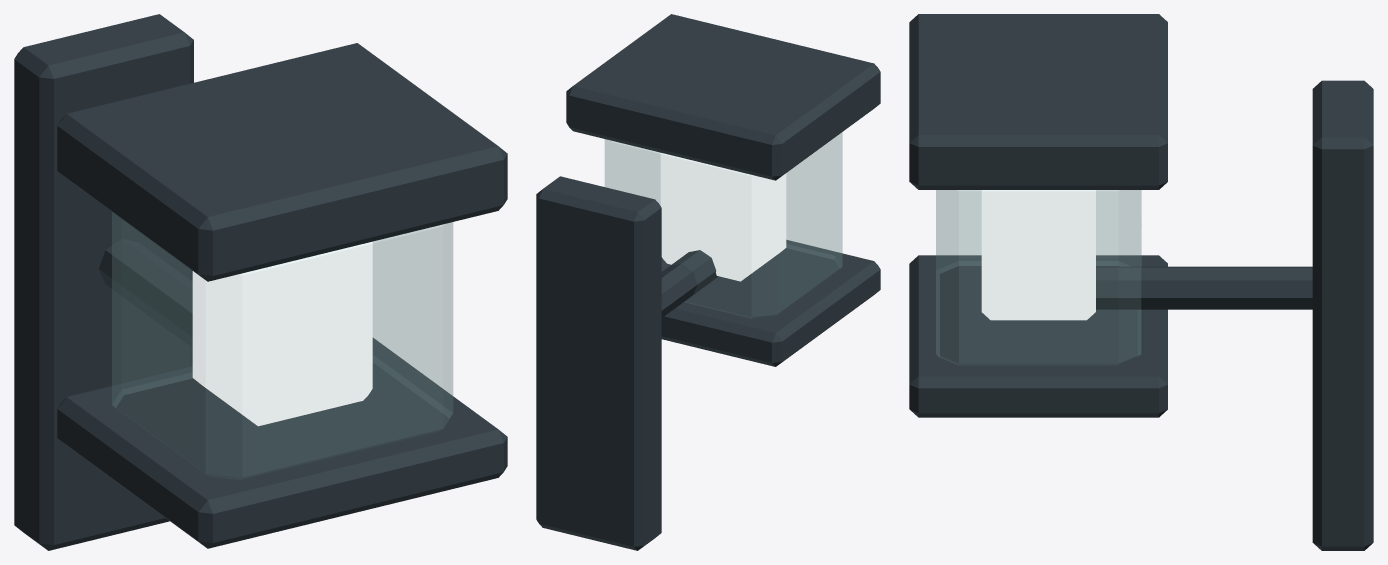
File: Lamp_Wall_Exterior.fbx
3 views of the same model, side by side, from view 1: azimuth 30°, elevation 25°; view 2: azimuth 150°, elevation 25°; view 3: azimuth 270°, elevation 25° (orthographic). The views are drawn at different scales.
Parts seen in each view (by area): view 1: Lamp_Wall_Exterior; view 2: Lamp_Wall_Exterior; view 3: Lamp_Wall_Exterior.
Part boxes in pixels (x1,y1,x2,y2): Lamp_Wall_Exterior: [14, 14, 507, 550]; Lamp_Wall_Exterior: [536, 14, 880, 550]; Lamp_Wall_Exterior: [909, 14, 1373, 550].
Size of the model in its own units: 40 by 65 by 61.
